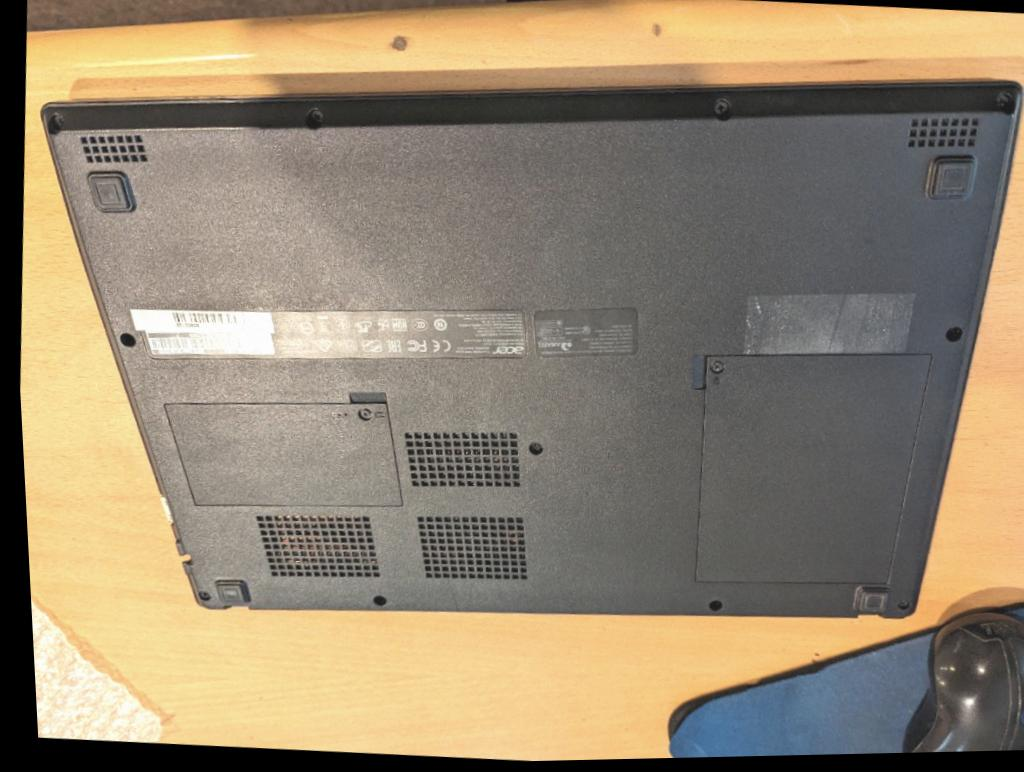scratch: (440, 577, 452, 613)
stain: (739, 295, 909, 357)
